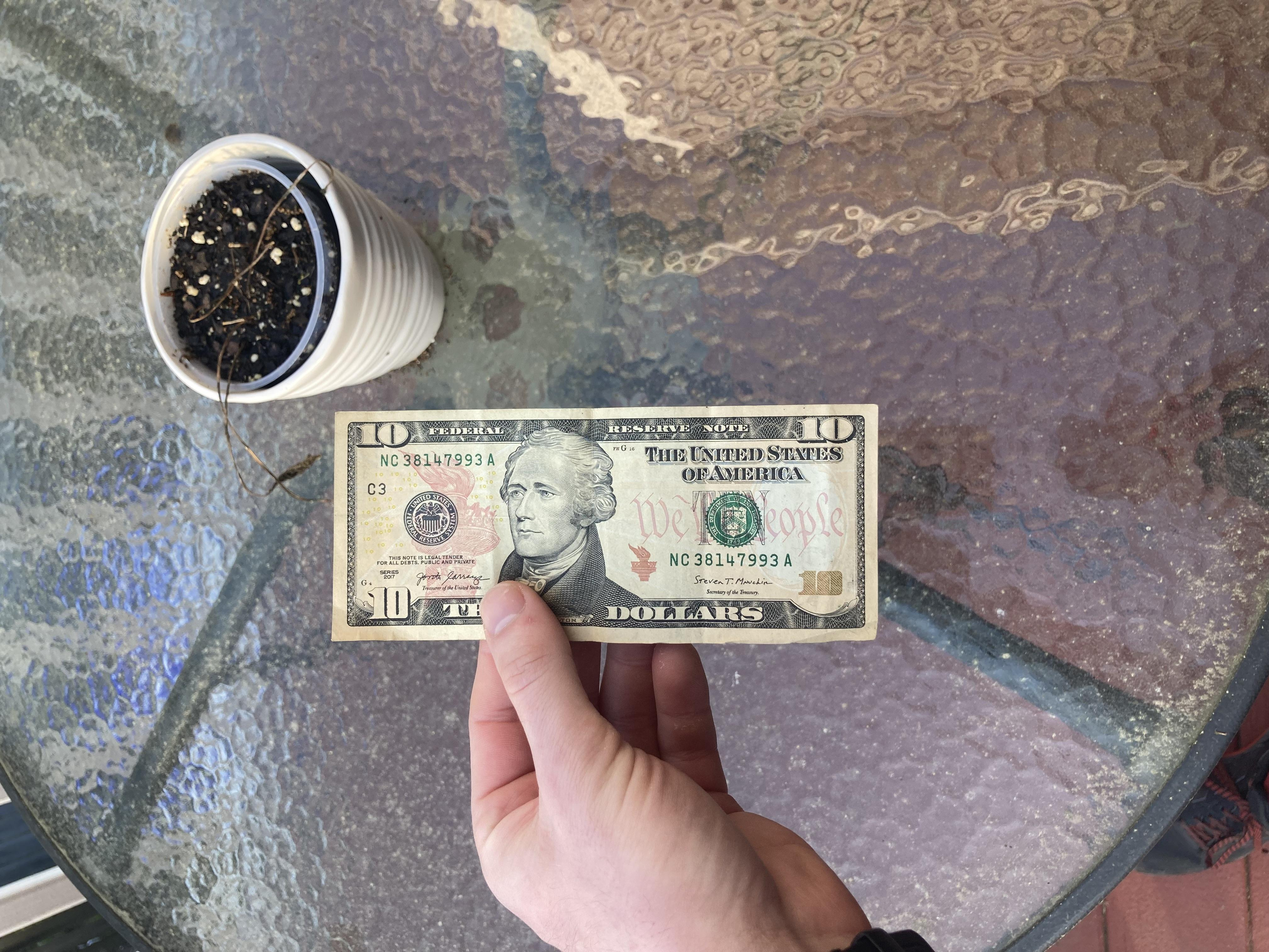ten-front: (413, 250, 733, 660)
